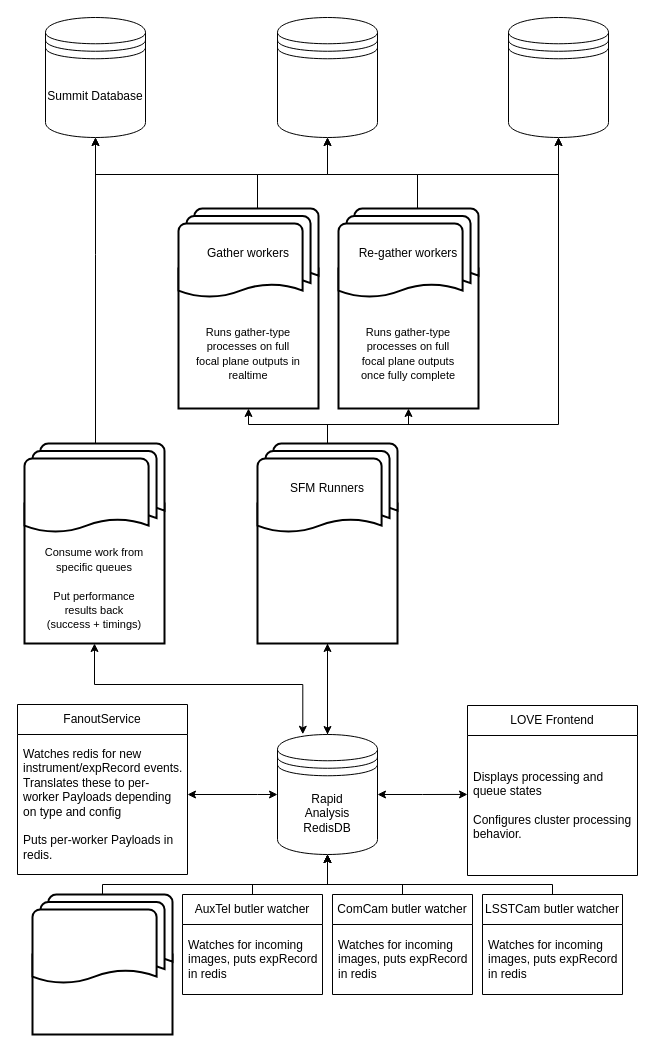
Some shapes in this 655 by 1053 pixel diagram are drawn without their labels. The shapes that lost their labels are listed below. From the top down, each one's centre as x and y in pixels, then its label:
At [327,77]: "RubinTV S3".
At [558,77]: "Butler".
At [94,488]: "Snowflake workers".
At [327,573]: "Consumes work from queues Puts performance results back (success + timings)".
At [102,939]: "Snowflake watchers".
At [102,994]: "Watches for incoming files/events/images for snowflake services".
